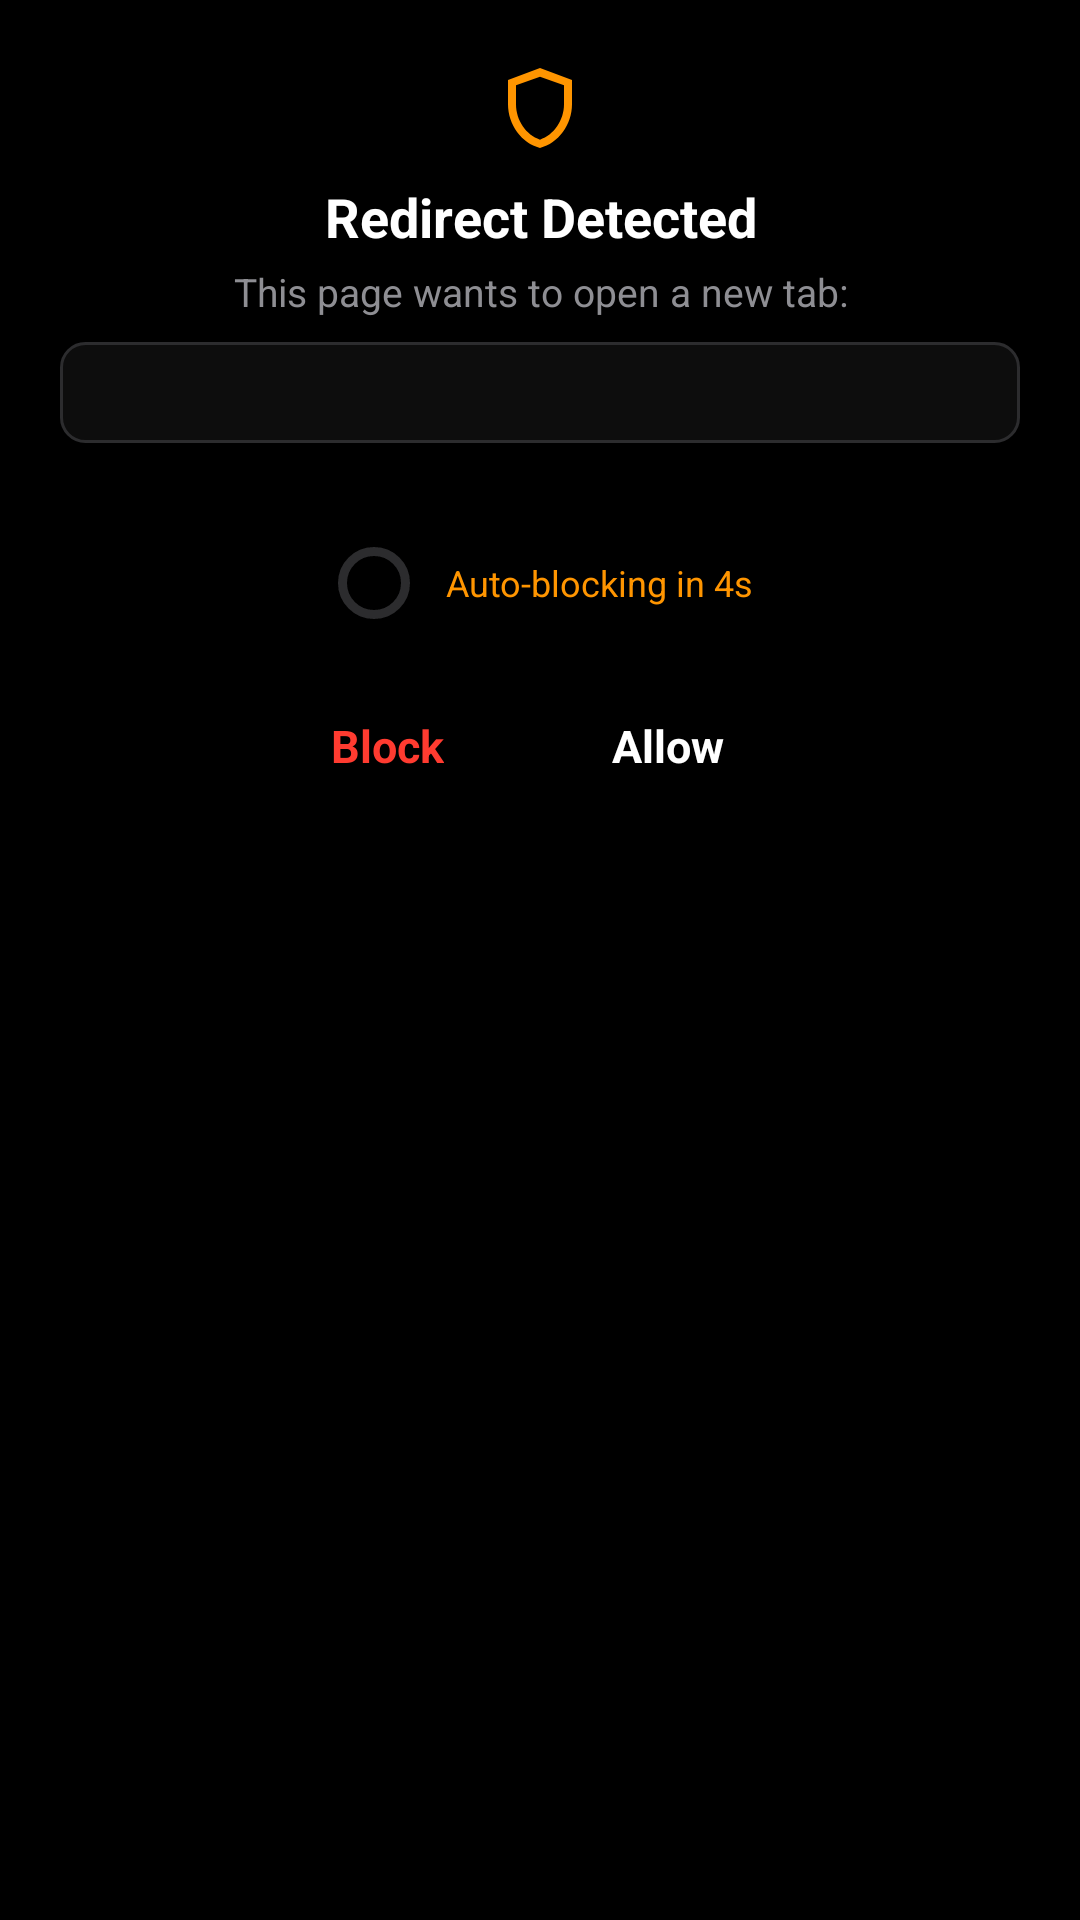

Icons on this 1080w x 1920h Android screen, each with its box as (x1, y1, x2, y2):
shield: (508, 68, 572, 148)
